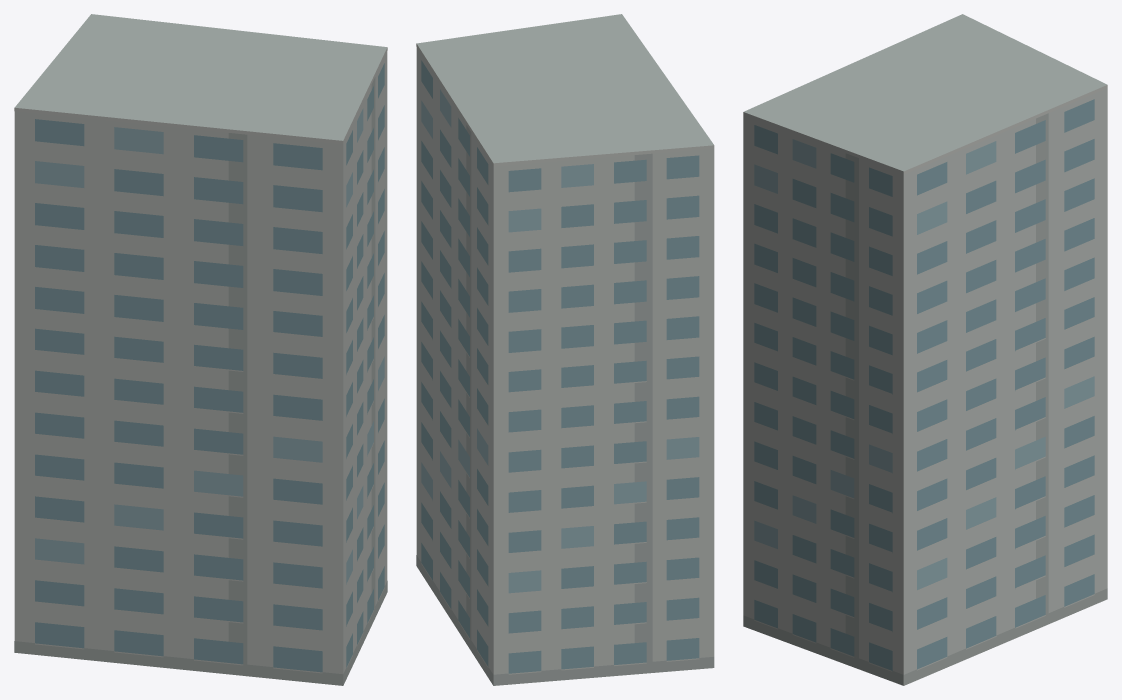
File: residential-e197566b-9fa3-4bbb-b7ab-62d53f8c2368.glb
The picture shows the model from 3 angles, left to right: view 1: azimuth 30°, elevation 25°; view 2: azimuth 150°, elevation 25°; view 3: azimuth 270°, elevation 25°; orthographic projection. The views are drawn at different scales.
Visible parts, largest first — view 1: residential-e197566b-9fa3-4bbb-b7ab-62d53f8c2368.tmp; view 2: residential-e197566b-9fa3-4bbb-b7ab-62d53f8c2368.tmp; view 3: residential-e197566b-9fa3-4bbb-b7ab-62d53f8c2368.tmp.
Part boxes in pixels (left/top/right/bottom): residential-e197566b-9fa3-4bbb-b7ab-62d53f8c2368.tmp: left=14, top=14, right=387, bottom=685; residential-e197566b-9fa3-4bbb-b7ab-62d53f8c2368.tmp: left=416, top=14, right=714, bottom=685; residential-e197566b-9fa3-4bbb-b7ab-62d53f8c2368.tmp: left=743, top=14, right=1107, bottom=685.
Bounding box in the file's own units: 24.95 × 38 × 24.4.
